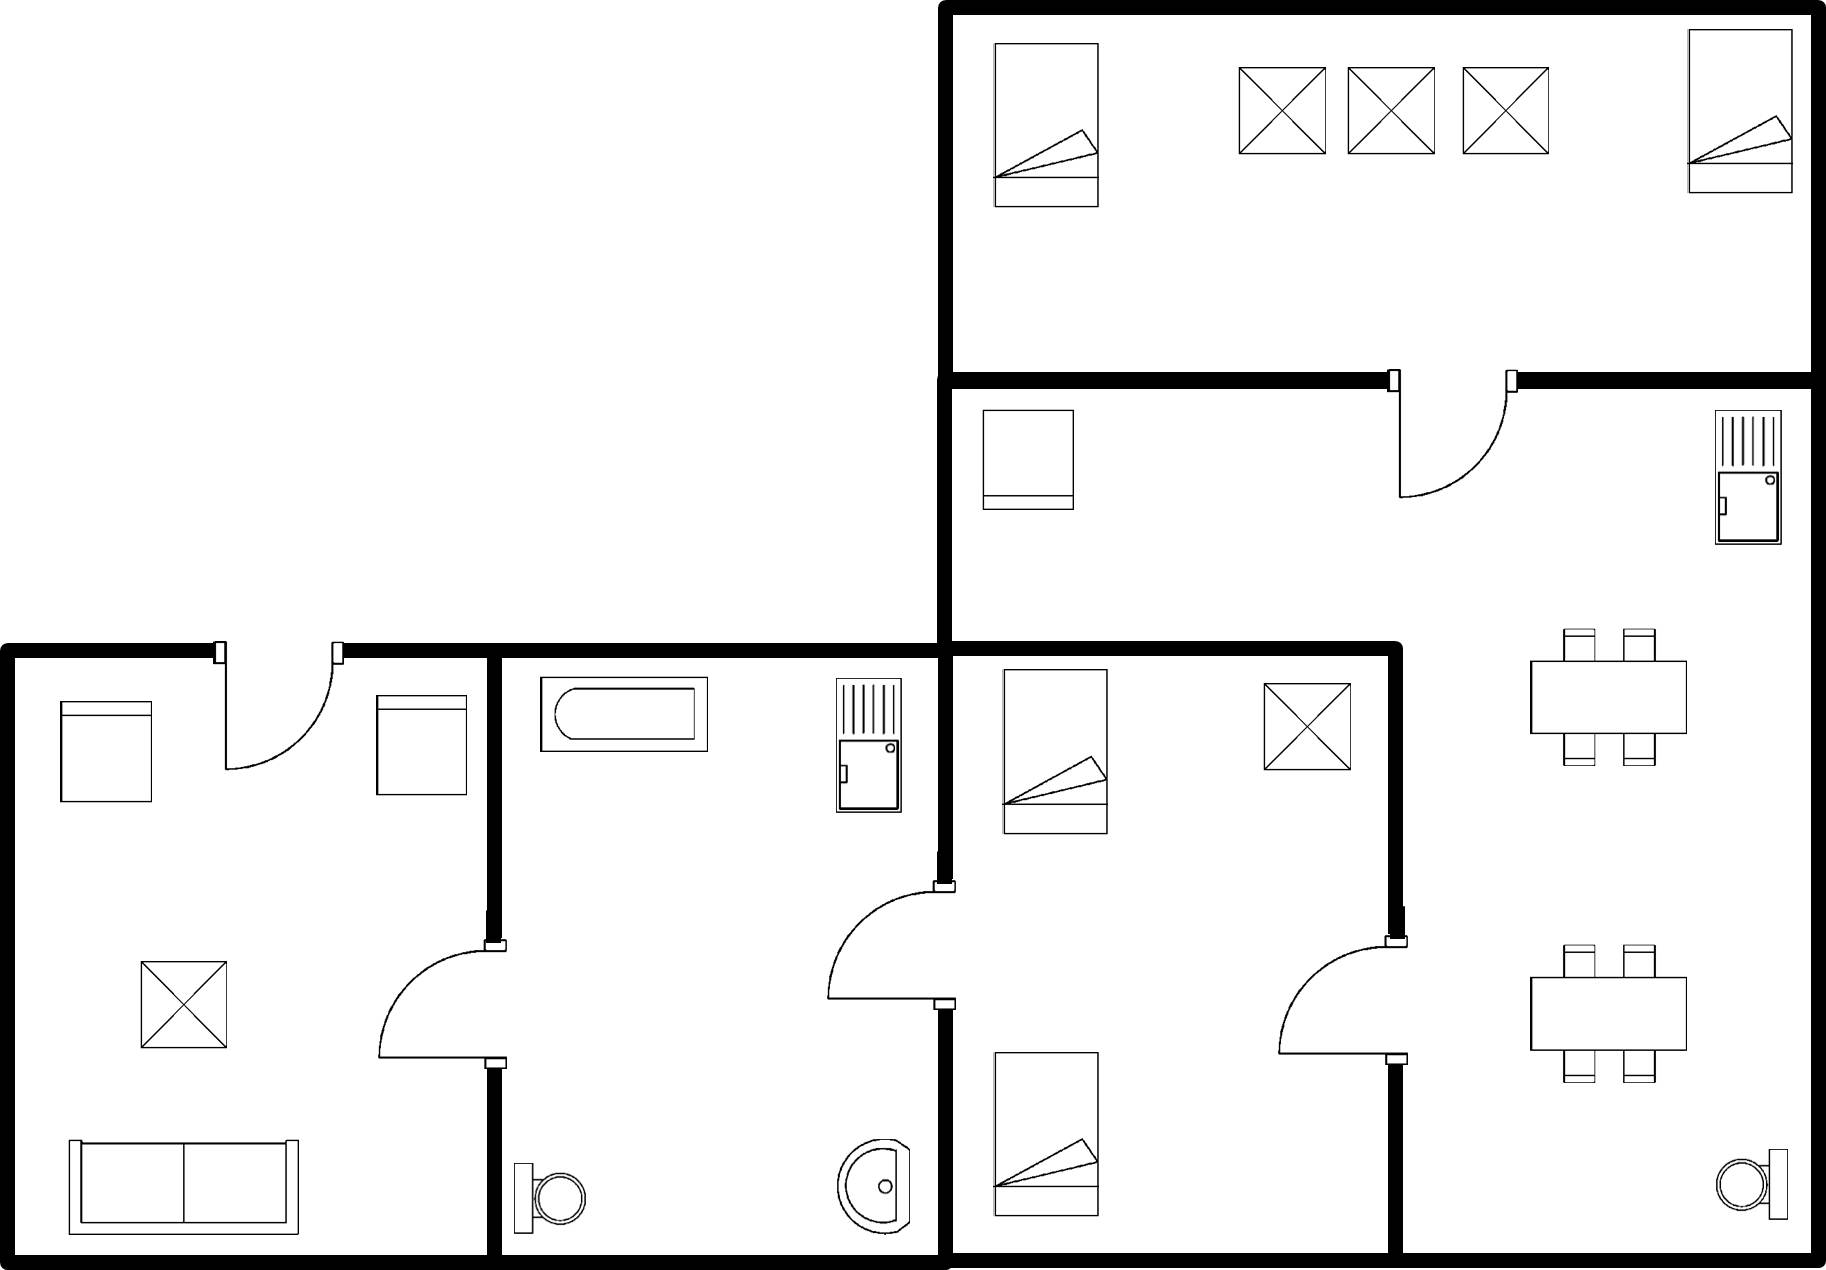bed: (994, 661, 1117, 846), (983, 37, 1108, 216), (987, 1042, 1109, 1226), (1679, 20, 1801, 202)
coffee_table: (130, 950, 238, 1061), (1251, 674, 1360, 785), (1227, 56, 1335, 164), (1455, 58, 1559, 164), (1340, 58, 1443, 164)
dining_table: (1518, 935, 1698, 1095), (1520, 617, 1695, 776)
large_sink: (1704, 1135, 1798, 1237), (504, 1148, 594, 1246)
large_sofa: (55, 1130, 313, 1245)
sink: (1705, 398, 1796, 563), (825, 669, 911, 825)
small_sink: (829, 1130, 921, 1246)
small_sofa: (365, 680, 476, 809), (972, 403, 1089, 525), (51, 693, 166, 816)
tub: (531, 668, 721, 764)
